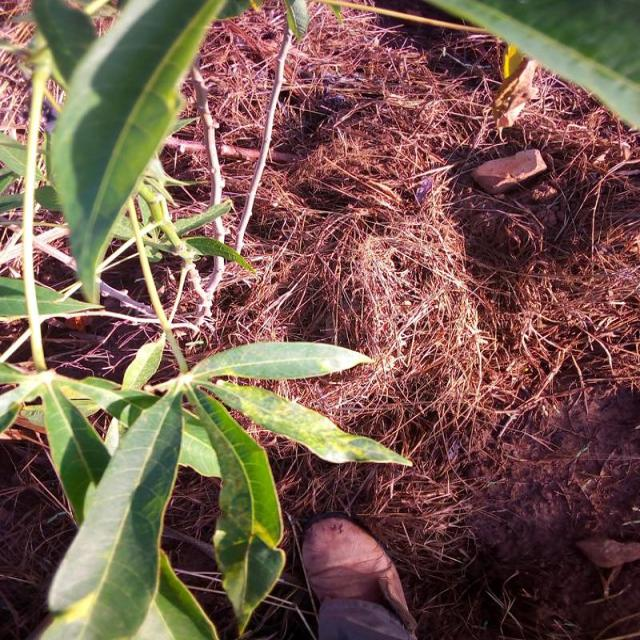cassava leaf: (47, 0, 230, 304), (41, 380, 185, 638), (184, 383, 286, 635), (198, 378, 413, 467)
